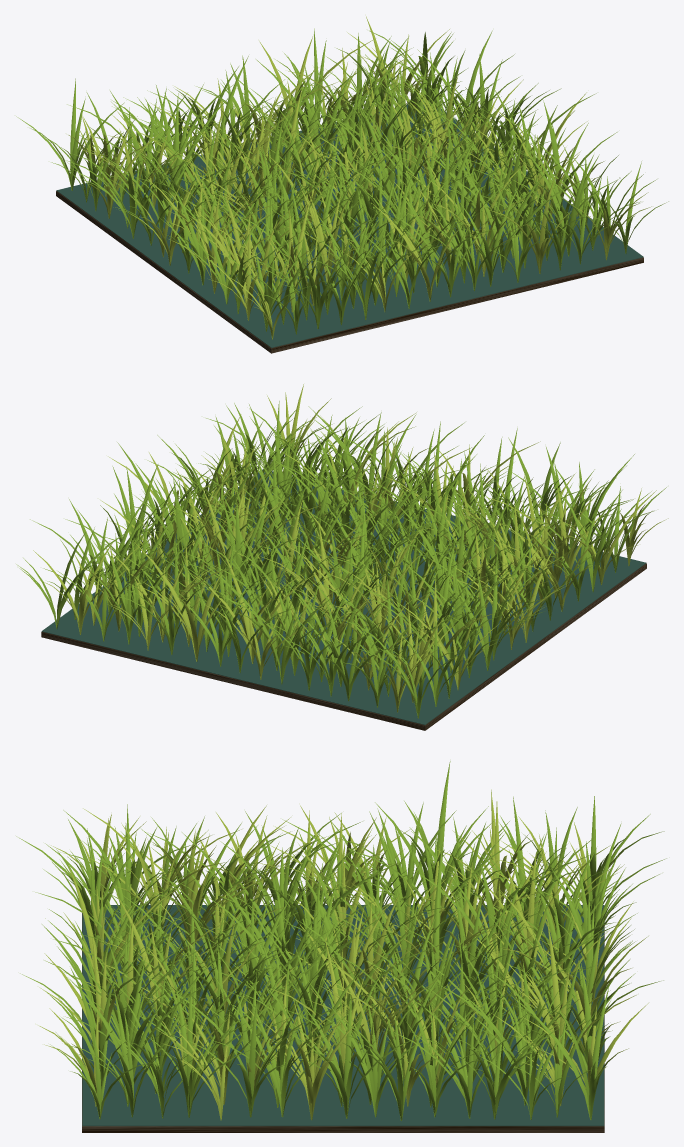
The model's file is KL_LS_Paddy_Green_4m.gltf.
3 views of the same model, one above another, from view 1: azimuth 30°, elevation 25°; view 2: azimuth 150°, elevation 25°; view 3: azimuth 270°, elevation 25° (orthographic). The views are drawn at different scales.
Parts seen in each view (by area): view 1: TF3_KL_LS_Paddy_Green_4m; view 2: TF3_KL_LS_Paddy_Green_4m; view 3: TF3_KL_LS_Paddy_Green_4m.
Boxes of the visible parts, bbox=[...] form: TF3_KL_LS_Paddy_Green_4m: bbox=[16, 16, 668, 353]; TF3_KL_LS_Paddy_Green_4m: bbox=[16, 384, 668, 730]; TF3_KL_LS_Paddy_Green_4m: bbox=[16, 761, 666, 1132].
Bounding box in the file's own units: 5.14 × 1.01 × 5.02.
4 materials, 1 textured.
